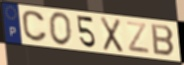5: (76, 14, 97, 49)
B: (150, 22, 176, 58)
C: (20, 9, 49, 43)
O: (47, 11, 74, 47)
X: (99, 15, 125, 54)
Z: (125, 20, 152, 55)
